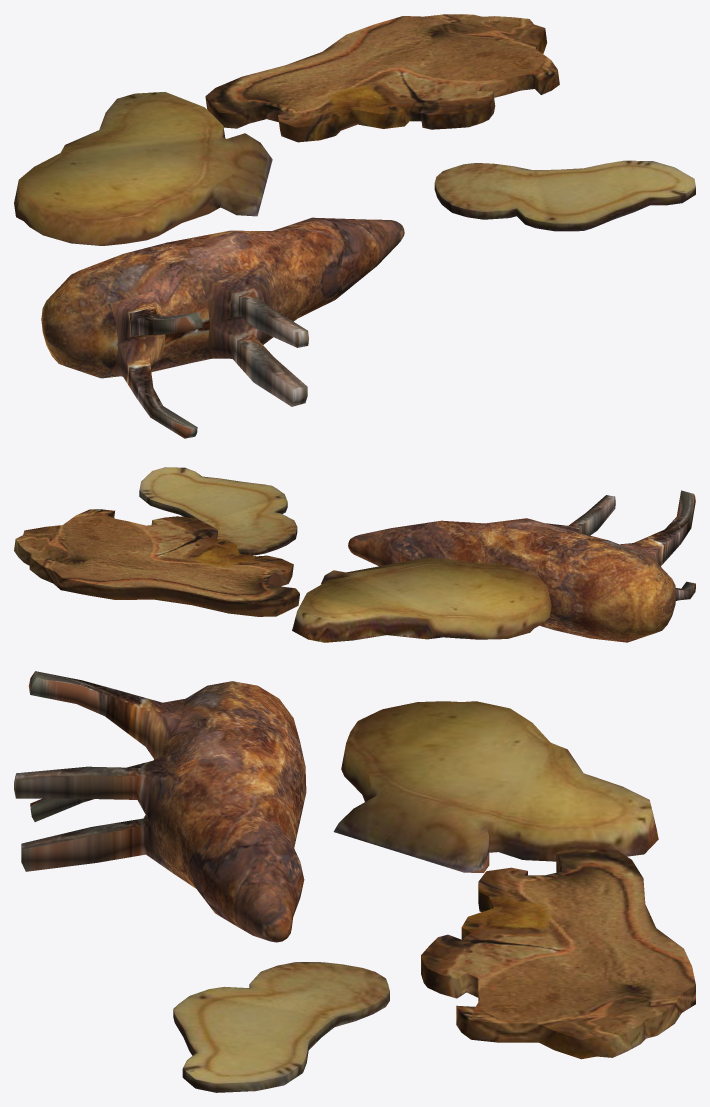
Rendered from gouji.FBX.
3 views of the same model, one above another, from view 1: azimuth 30°, elevation 25°; view 2: azimuth 150°, elevation 25°; view 3: azimuth 270°, elevation 25° (orthographic). The views are drawn at different scales.
Visible parts, largest first — view 1: Cylinder001, Line003, Line001, Line002; view 2: Cylinder001, Line003, Line001, Line002; view 3: Cylinder001, Line003, Line001, Line002.
Boxes of the visible parts, left/top/right/bottom form: Cylinder001: left=41, top=217, right=404, bottom=438; Line003: left=205, top=14, right=559, bottom=142; Line001: left=14, top=92, right=272, bottom=245; Line002: left=434, top=160, right=695, bottom=231; Cylinder001: left=348, top=490, right=695, bottom=642; Line003: left=14, top=509, right=299, bottom=616; Line001: left=292, top=557, right=551, bottom=642; Line002: left=139, top=467, right=297, bottom=555; Cylinder001: left=14, top=671, right=306, bottom=942; Line003: left=421, top=846, right=695, bottom=1059; Line001: left=333, top=701, right=658, bottom=872; Line002: left=173, top=962, right=389, bottom=1092.
Bounding box in the file's own units: 44.33 × 8.03 × 33.87.
Materials: 1 (1 with a texture image).
